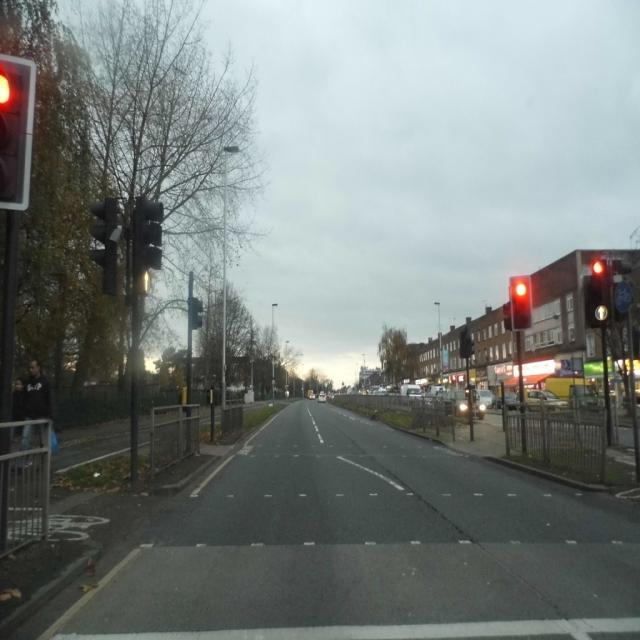off traffic light: (133, 198, 165, 275), (86, 196, 118, 270)
traffic light: (0, 59, 31, 201), (512, 278, 531, 328)
